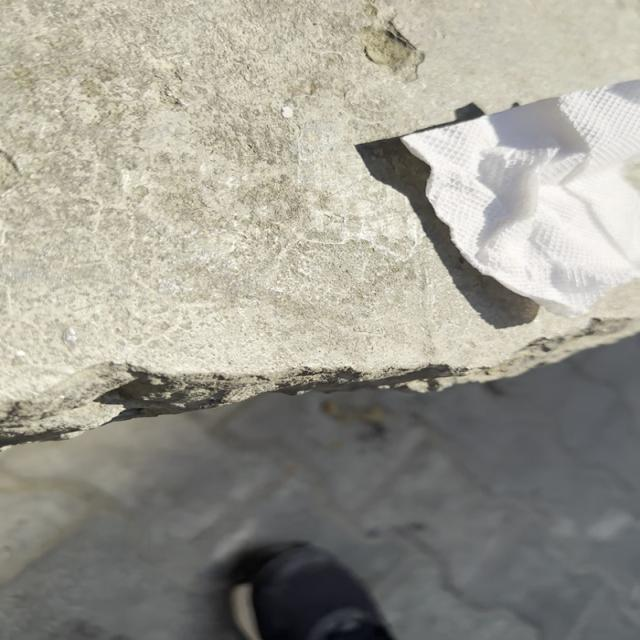tissue: (391, 77, 633, 318)
